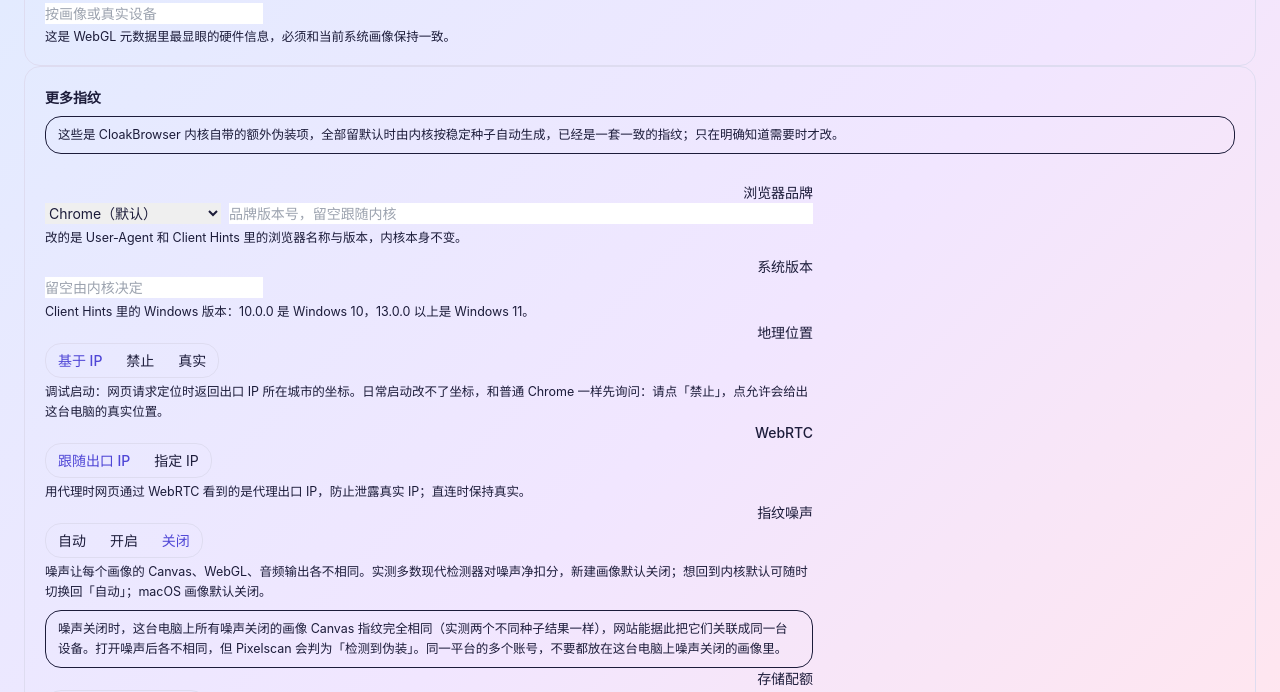
Test: ProfileForm cookies and layout › summarises the geolocation and WebRTC choices
(page scrolled)
What coordinates should you click on to do the following:
click the radio button labelled "禁止"
I would click on:
 (140, 360)
Its box is x1=114 y1=344 x2=166 y2=377.
(page scrolled)
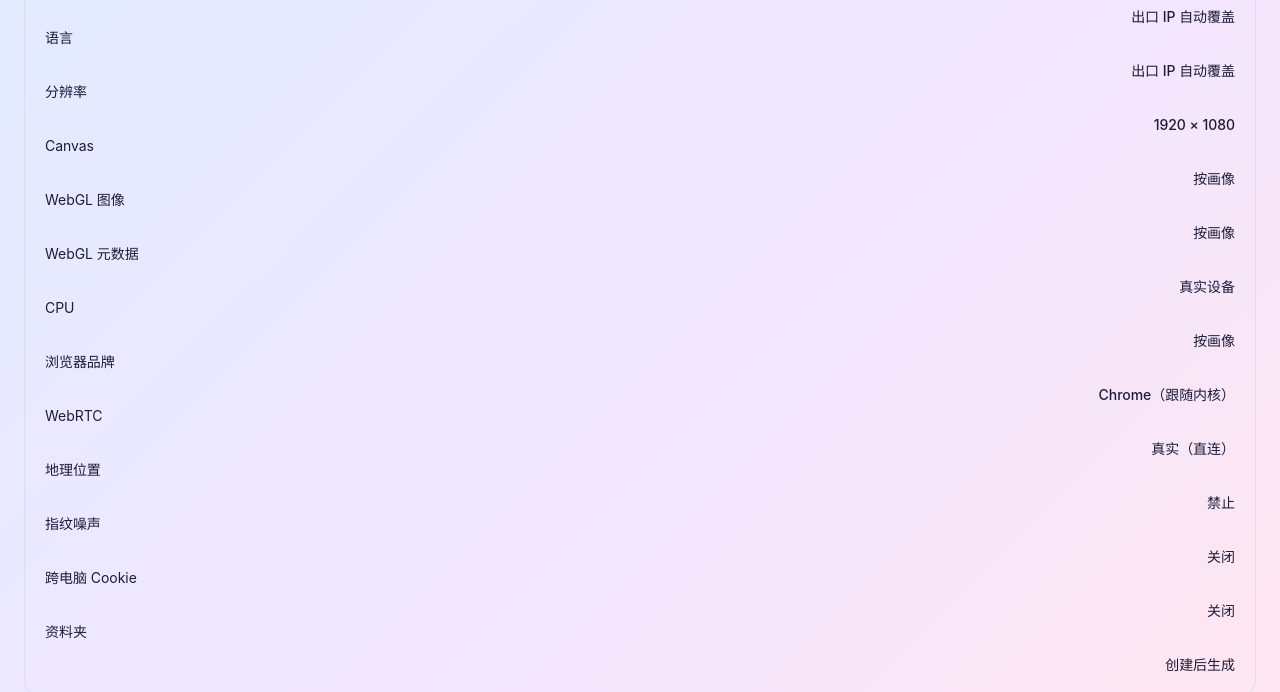
Now the text "禁止" is shown, box x1=1207 y1=494 x2=1235 y2=511
